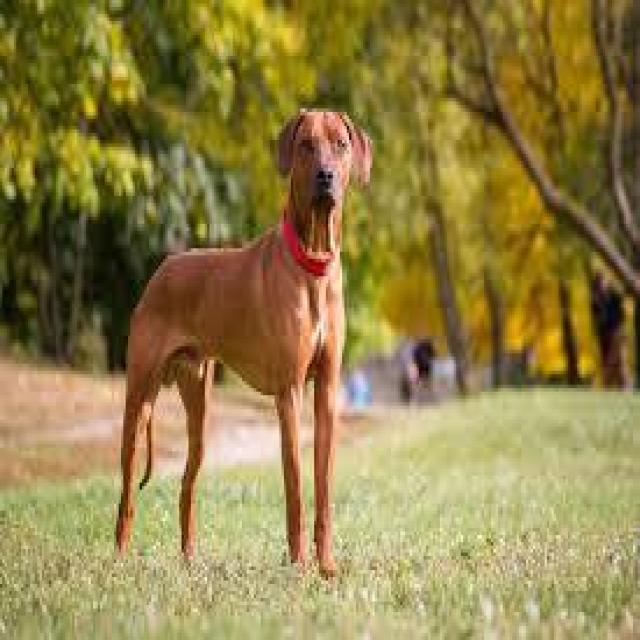dog: (87, 49, 418, 604)
